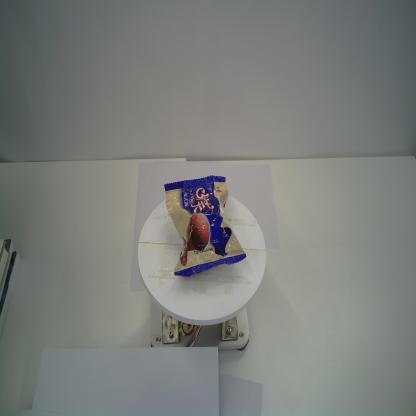Dessert: (162, 174, 247, 278)
